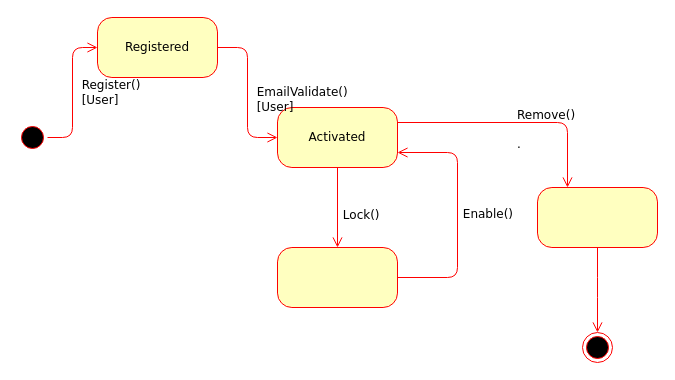
This 675x380 diagram has some shape labels left out. Here are the shapes that lost their labels. From the top down, the centre of each, then its label:
At pixel 597 217: "Archived".
At pixel 337 277: "Deactived".
